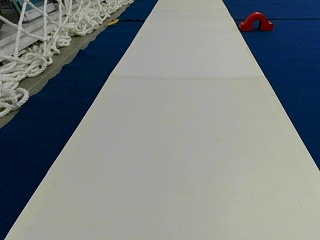bridge: (240, 12, 272, 30)
